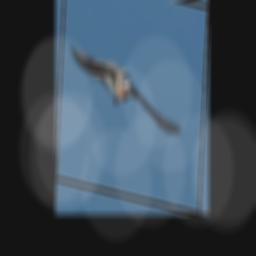Swallow: (68, 38, 185, 135)
